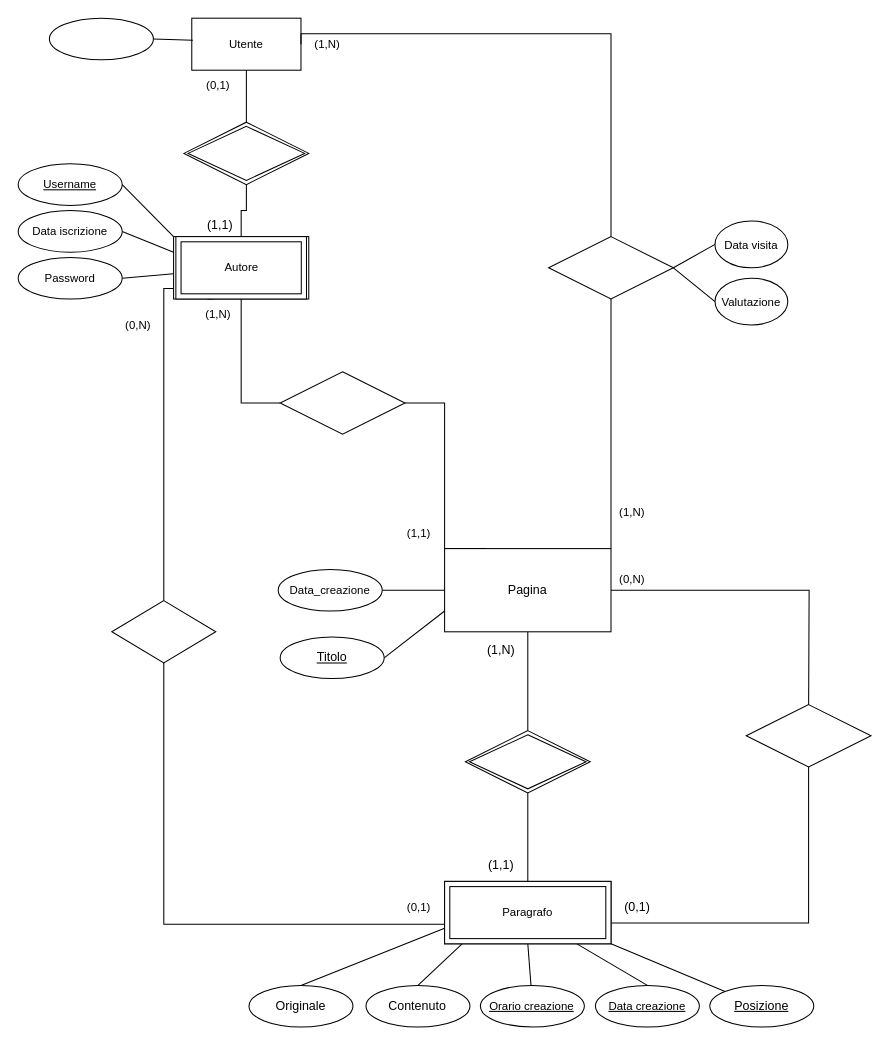
Some shapes in this 889 by 1045 pixel diagram are drawn without their labels. Here are the shapes that lost their labels. From the top down, the centre of each, then its label:
point (100, 38): UtenteID
point (246, 153): Iscrizione
point (610, 267): Visita
point (342, 402): Proprietario
point (163, 631): Propone
point (808, 735): Collegamento
point (527, 761): Composizione
